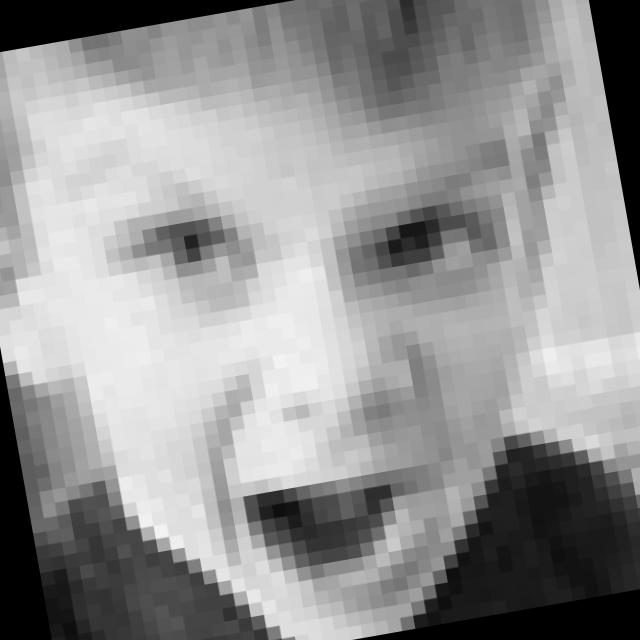angry: (93, 148, 564, 637)
